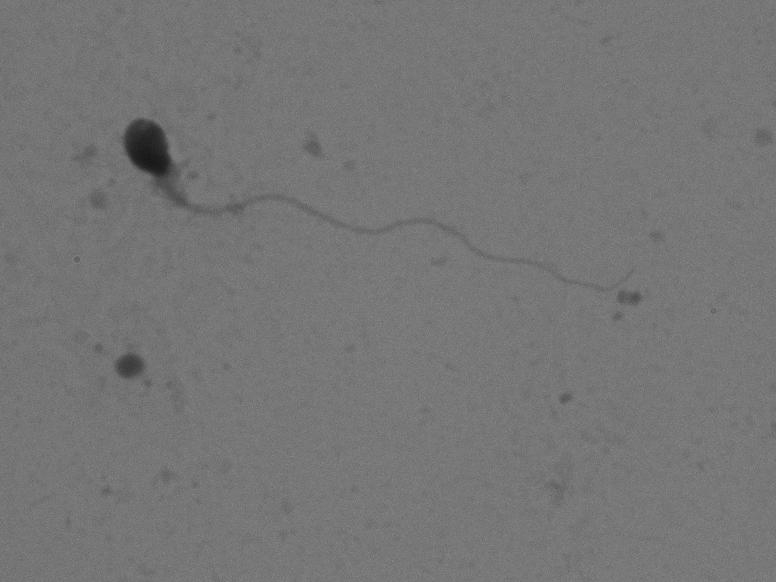Abnormal: (101, 66, 658, 317)
